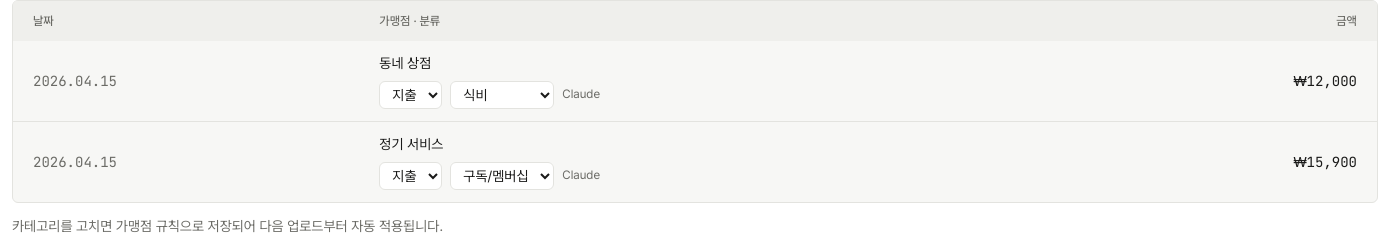
Test: 거래 목록 수정 › 카테고리를 고치면 규칙으로 저장하고 그 자리에서 출처 배지를 바꿉니다
Select "쇼핑" in the dropdown named "동네 상점 카테고리": (502, 95) [450,81,554,109]
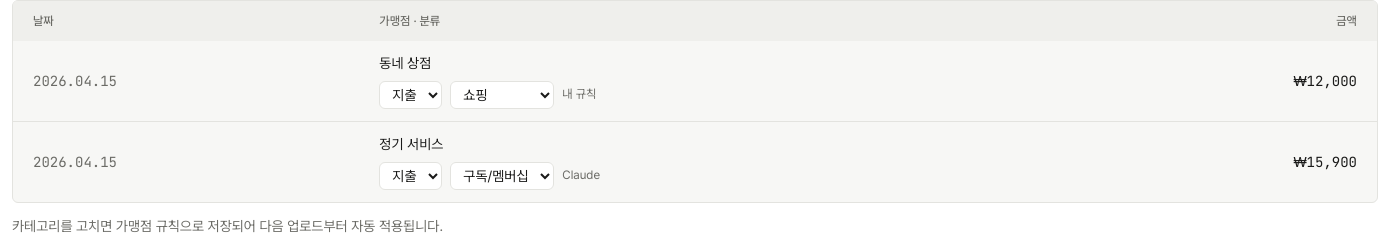
Expected: the text "내 규칙" is shown, [562,85,596,105]
